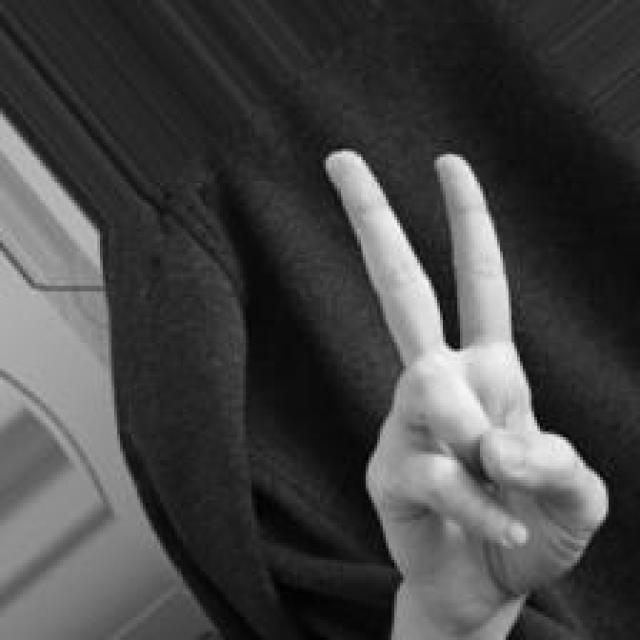V: (316, 142, 612, 616)
